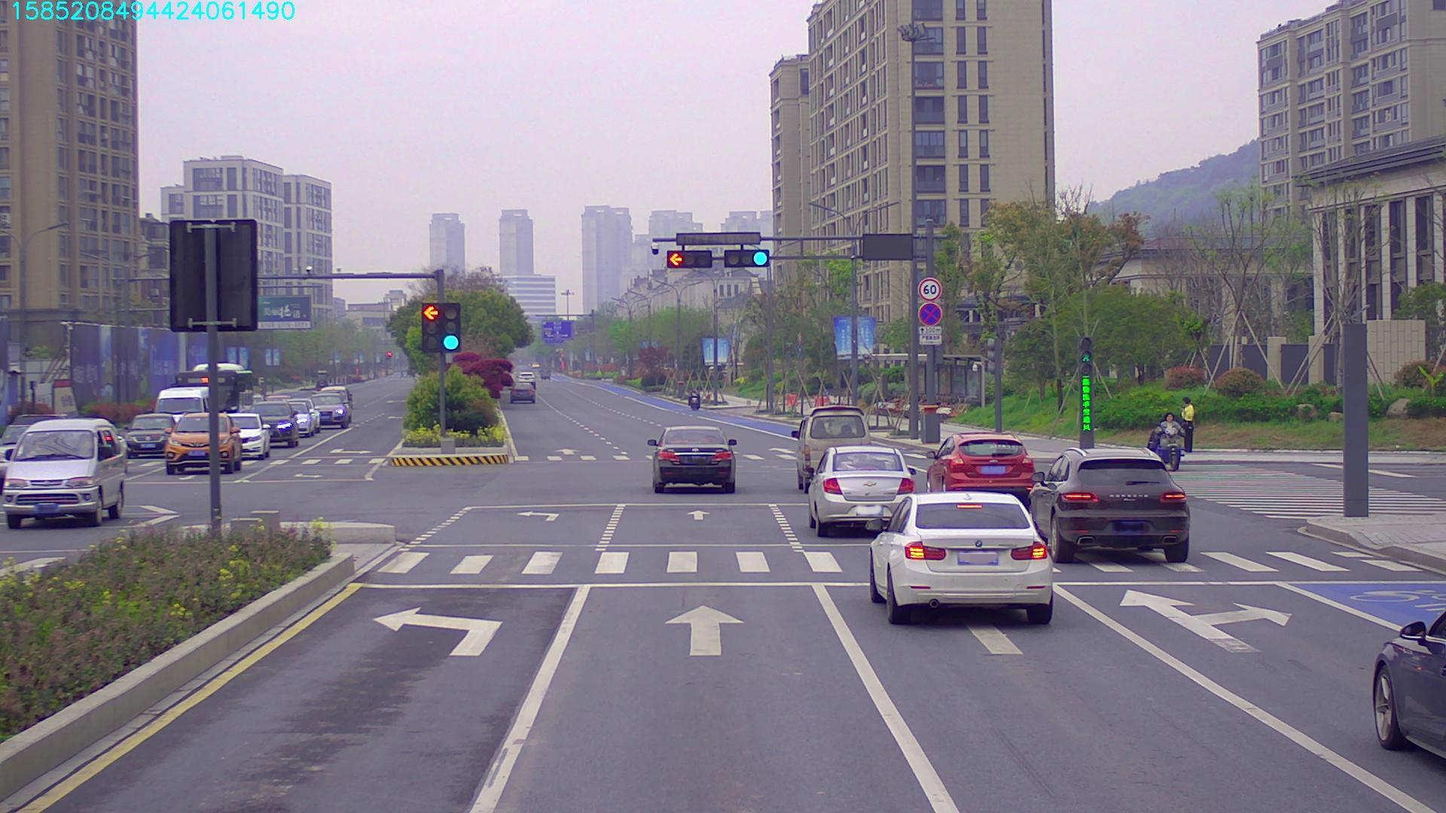green: (726, 250, 778, 271)
red: (667, 248, 709, 266)
